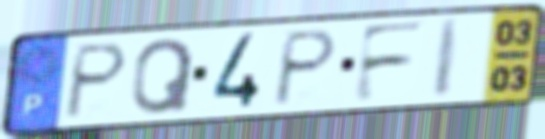4: (209, 30, 265, 113)
F: (351, 19, 430, 106)
I: (430, 16, 464, 100)
P: (269, 27, 341, 109), (60, 40, 132, 122)
Q: (128, 36, 198, 117)
